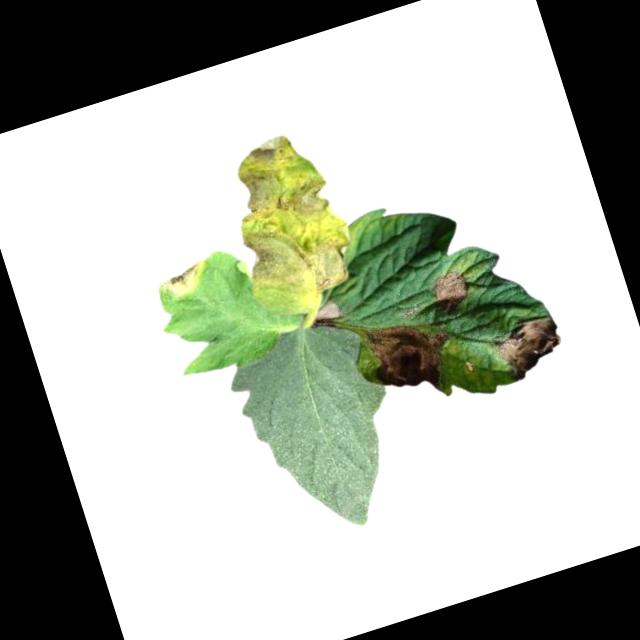Late_blight: (209, 124, 362, 312), (365, 307, 463, 411), (487, 308, 571, 386), (157, 256, 215, 301), (427, 268, 472, 314), (313, 297, 343, 326)
healthy: (216, 308, 422, 553)
